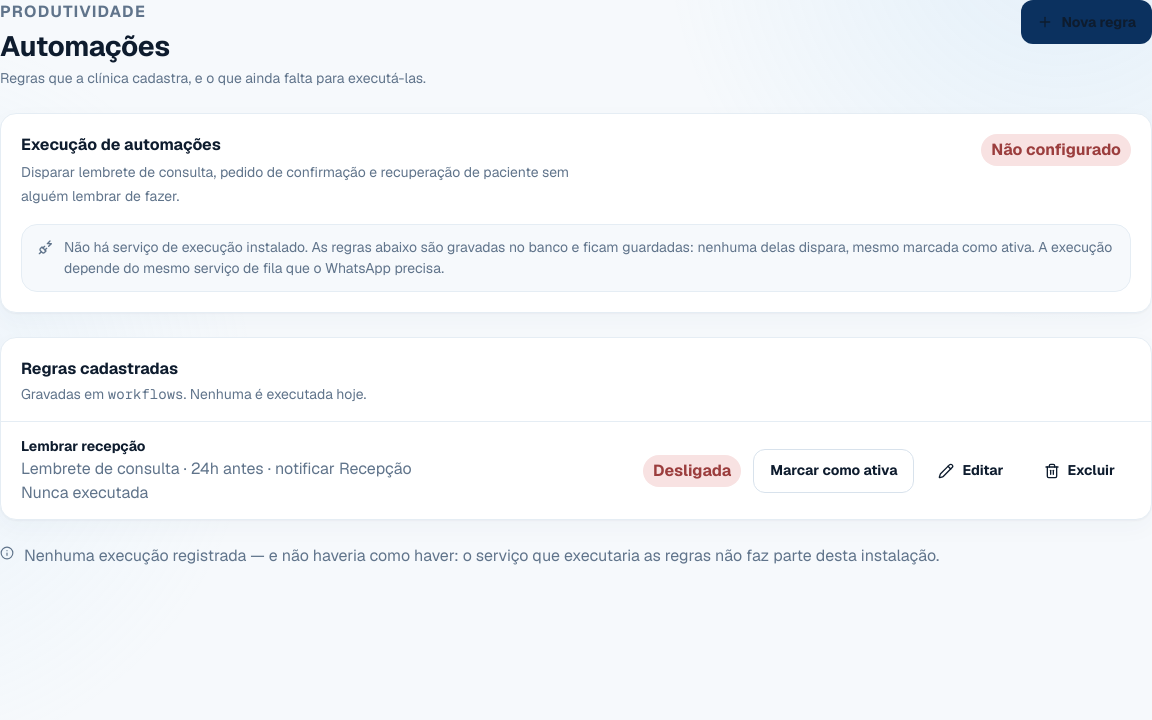
cadastro › mensagem vazia bloqueia o envio com aviso
Click the button "Nova regra".
click(1087, 22)  # box left=1021, top=0, right=1151, bottom=44
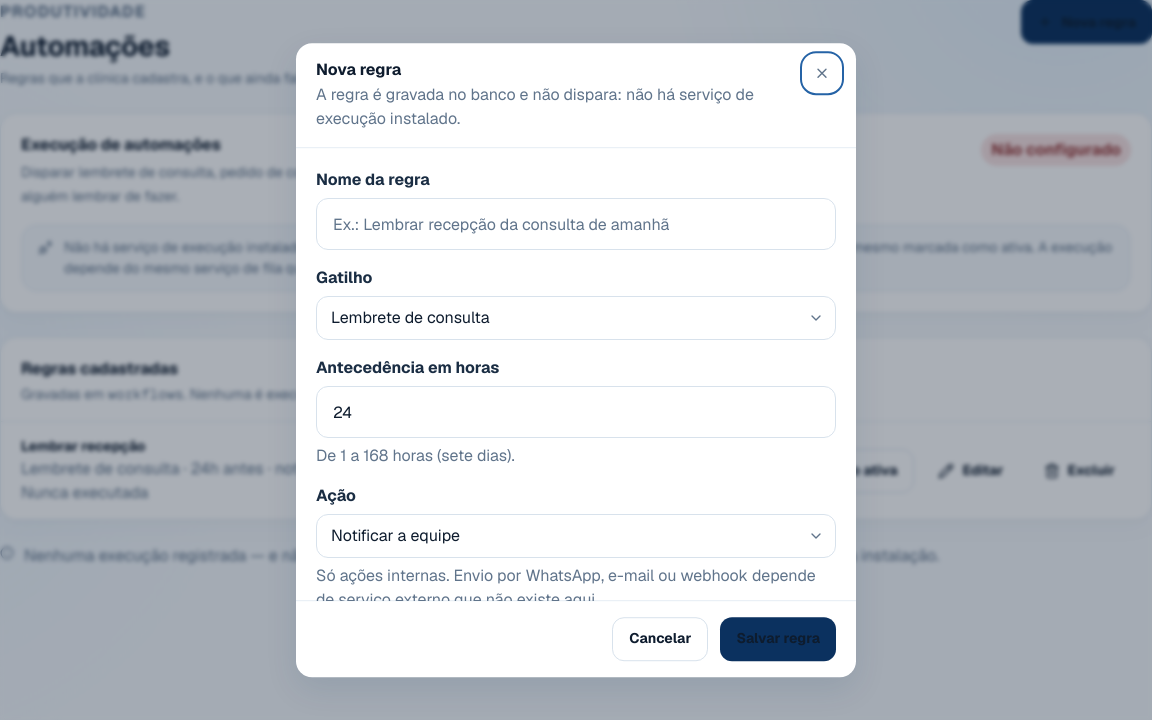
Type "Sem mensagem" into the field labelled "Nome da regra".
click(576, 225); type("Sem mensagem")  # box left=316, top=199, right=836, bottom=251
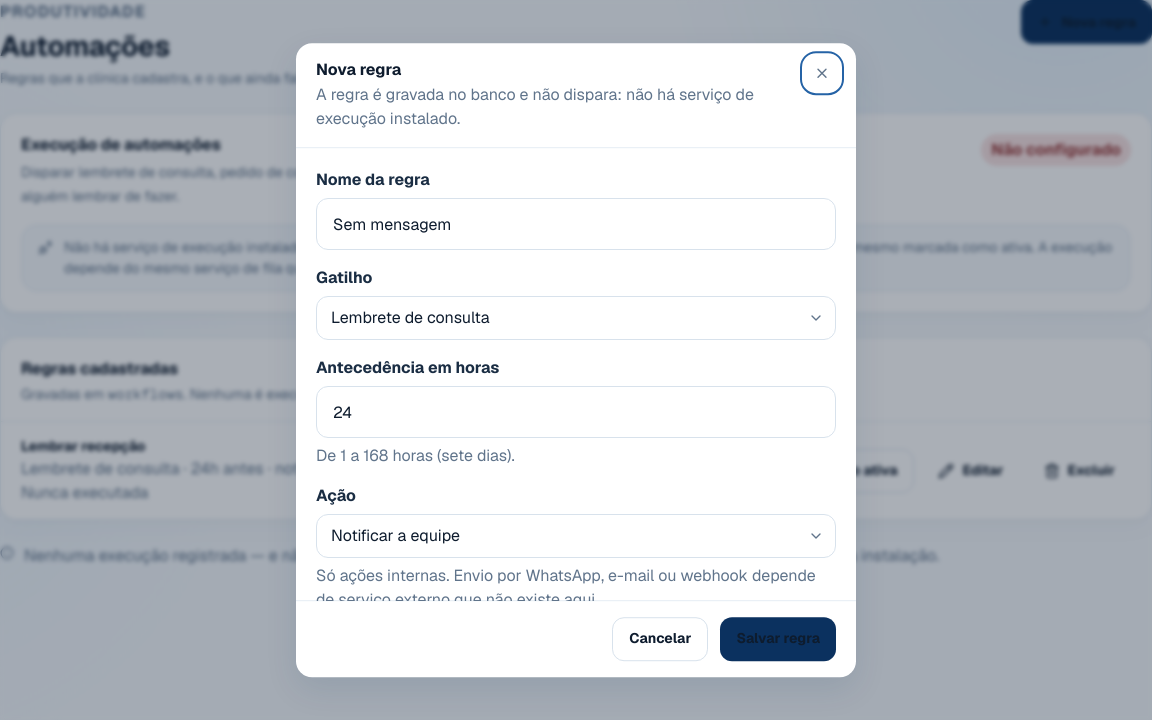
Click the button "Salvar regra".
click(778, 639)  # box left=720, top=617, right=836, bottom=661
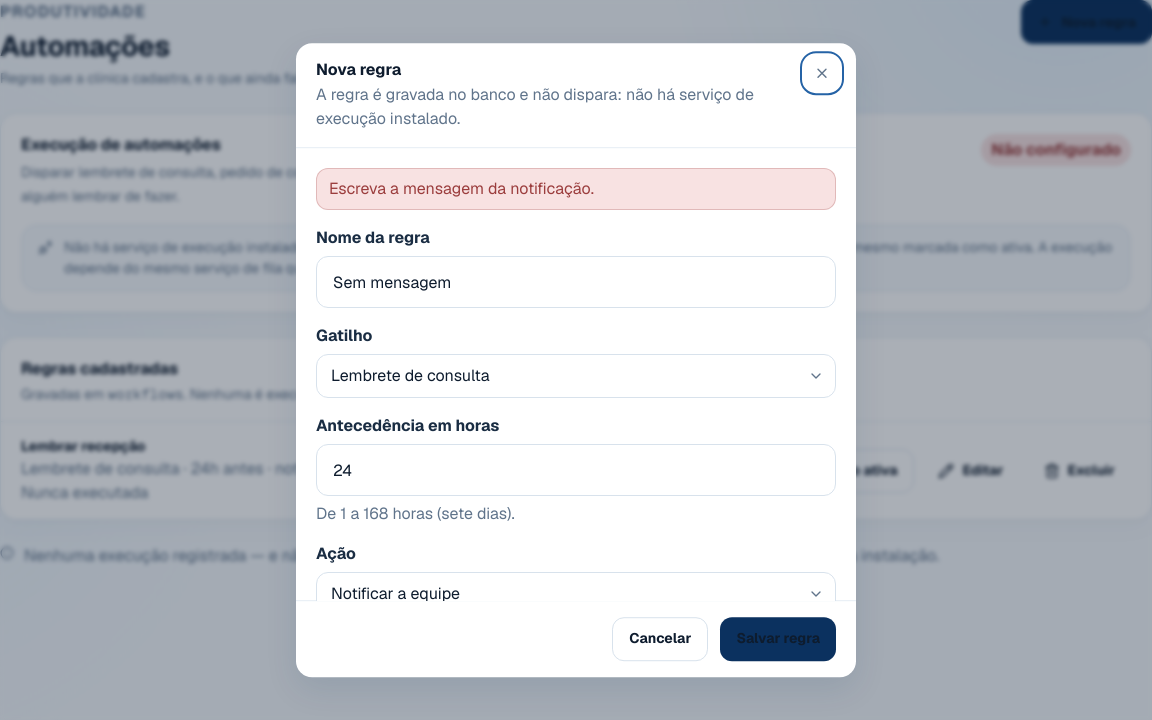
Now the message "Escreva a mensagem da notificação." is shown, box left=316, top=169, right=836, bottom=211
